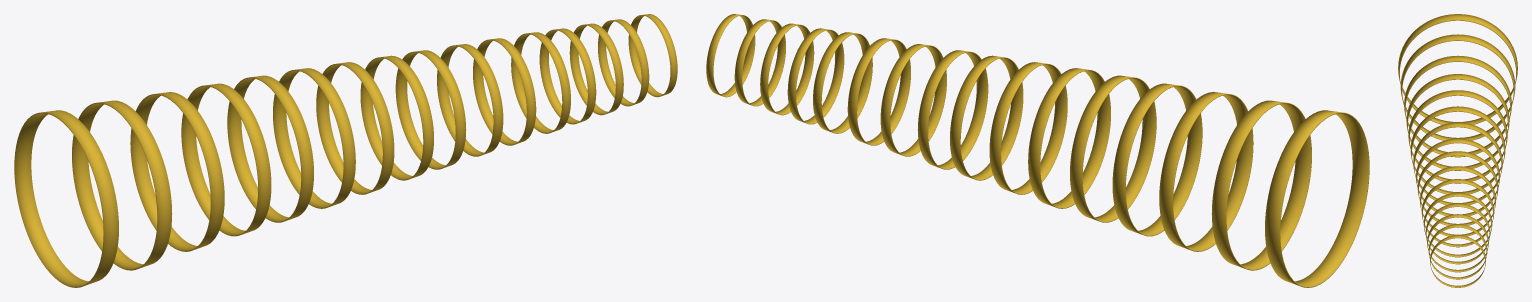
Rendered from Glass_Armonica_Bowl_Colliders.fbx.
3 renders of one model, left to right at view 1: azimuth 30°, elevation 25°; view 2: azimuth 150°, elevation 25°; view 3: azimuth 270°, elevation 25°, orthographic. The views are drawn at different scales.
Parts seen in each view (by area): view 1: Sphere.016, Sphere.020, Sphere.021, Sphere.017, Sphere.022, Sphere.023, Sphere.024, Sphere.018, Sphere.025, Sphere.026, Sphere.027, Sphere.019 (+4 smaller); view 2: Sphere.016, Sphere.020, Sphere.021, Sphere.017, Sphere.022, Sphere.023, Sphere.024, Sphere.018, Sphere.025, Sphere.026, Sphere.027, Sphere.019 (+4 smaller); view 3: Sphere.016, Sphere.020, Sphere.021, Sphere.017, Sphere.022, Sphere.023, Sphere.024, Sphere.018, Sphere.025, Sphere.026, Sphere.027, Sphere.019 (+4 smaller).
Part boxes in pixels (left/top/right/bottom): Sphere.016: left=14, top=110, right=118, bottom=287; Sphere.020: left=72, top=100, right=172, bottom=270; Sphere.021: left=130, top=92, right=224, bottom=251; Sphere.017: left=181, top=83, right=271, bottom=236; Sphere.022: left=227, top=75, right=313, bottom=222; Sphere.023: left=273, top=68, right=355, bottom=208; Sphere.024: left=316, top=62, right=394, bottom=194; Sphere.018: left=360, top=55, right=433, bottom=180; Sphere.025: left=395, top=50, right=466, bottom=169; Sphere.026: left=437, top=44, right=503, bottom=156; Sphere.027: left=473, top=38, right=536, bottom=145; Sphere.019: left=511, top=32, right=570, bottom=133; Sphere.016: left=1265, top=110, right=1369, bottom=287; Sphere.020: left=1211, top=100, right=1311, bottom=270; Sphere.021: left=1159, top=92, right=1253, bottom=251; Sphere.017: left=1112, top=83, right=1202, bottom=236; Sphere.022: left=1070, top=75, right=1156, bottom=222; Sphere.023: left=1028, top=68, right=1110, bottom=208; Sphere.024: left=989, top=62, right=1067, bottom=194; Sphere.018: left=950, top=55, right=1023, bottom=180; Sphere.025: left=917, top=50, right=988, bottom=169; Sphere.026: left=880, top=44, right=946, bottom=156; Sphere.027: left=847, top=38, right=910, bottom=145; Sphere.019: left=813, top=32, right=872, bottom=133; Sphere.016: left=1398, top=14, right=1517, bottom=124; Sphere.020: left=1400, top=34, right=1515, bottom=140; Sphere.021: left=1404, top=55, right=1511, bottom=157; Sphere.017: left=1406, top=74, right=1509, bottom=170; Sphere.022: left=1408, top=90, right=1507, bottom=183; Sphere.023: left=1410, top=106, right=1505, bottom=194; Sphere.024: left=1413, top=122, right=1502, bottom=204; Sphere.018: left=1416, top=138, right=1499, bottom=215; Sphere.025: left=1417, top=151, right=1498, bottom=225; Sphere.026: left=1420, top=166, right=1495, bottom=236; Sphere.027: left=1421, top=179, right=1494, bottom=247; Sphere.019: left=1423, top=192, right=1492, bottom=257.
Size of the model in its own units: 734 by 191 by 191.
